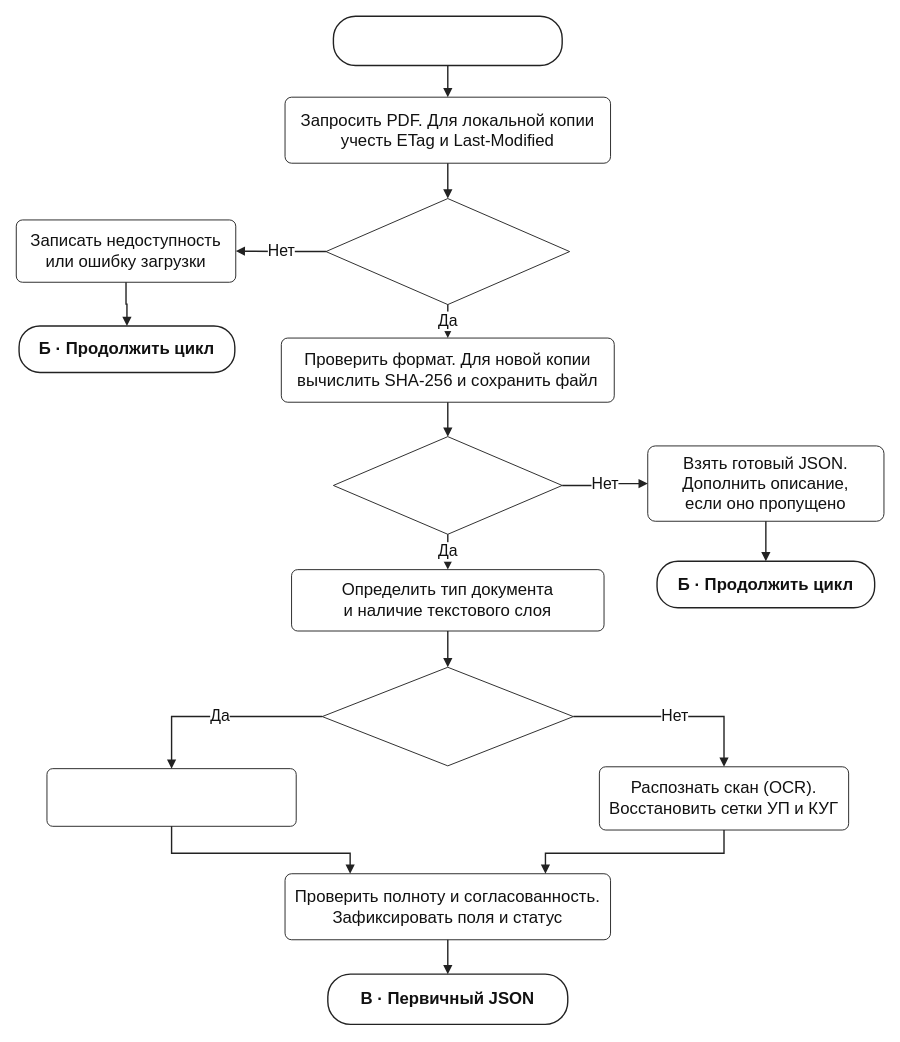
Some shapes in this 900 by 1042 pixel diagram are drawn without their labels. The shapes that lost their labels are listed below. From the top down, each one's centre as x and y in pixels, then its label:
At pixel 447 40: "А · Очередной PDF".
At pixel 447 251: "Доступен PDF или его копия?".
At pixel 447 485: "Нужен новый разбор?".
At pixel 447 716: "Есть пригодный текстовый слой?".
At pixel 171 797: "Извлечь текст, разделы и таблицы PDF".
